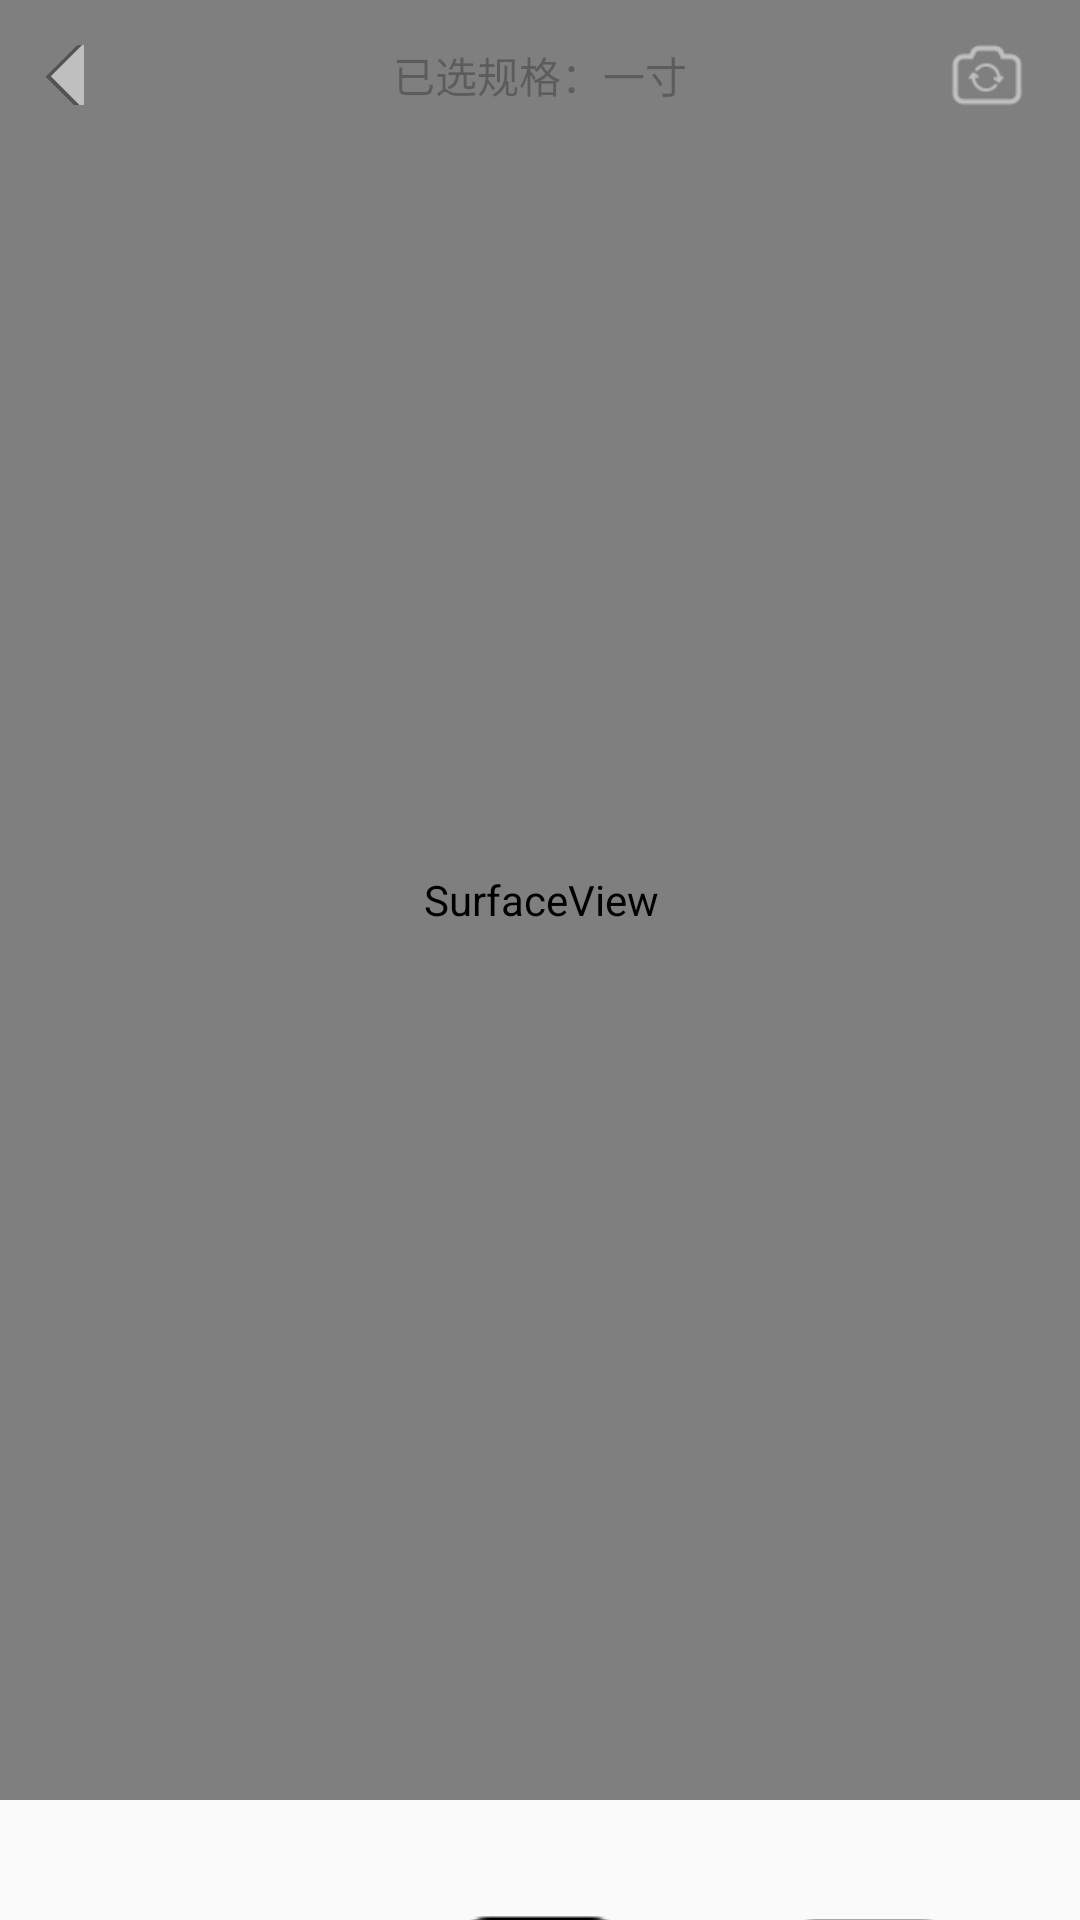

Point at icon controls on the screen. Image size 1080×1920, points as (x=x, y=y).
arrow: (x=65, y=75)
take switchcamera: (x=987, y=75)
